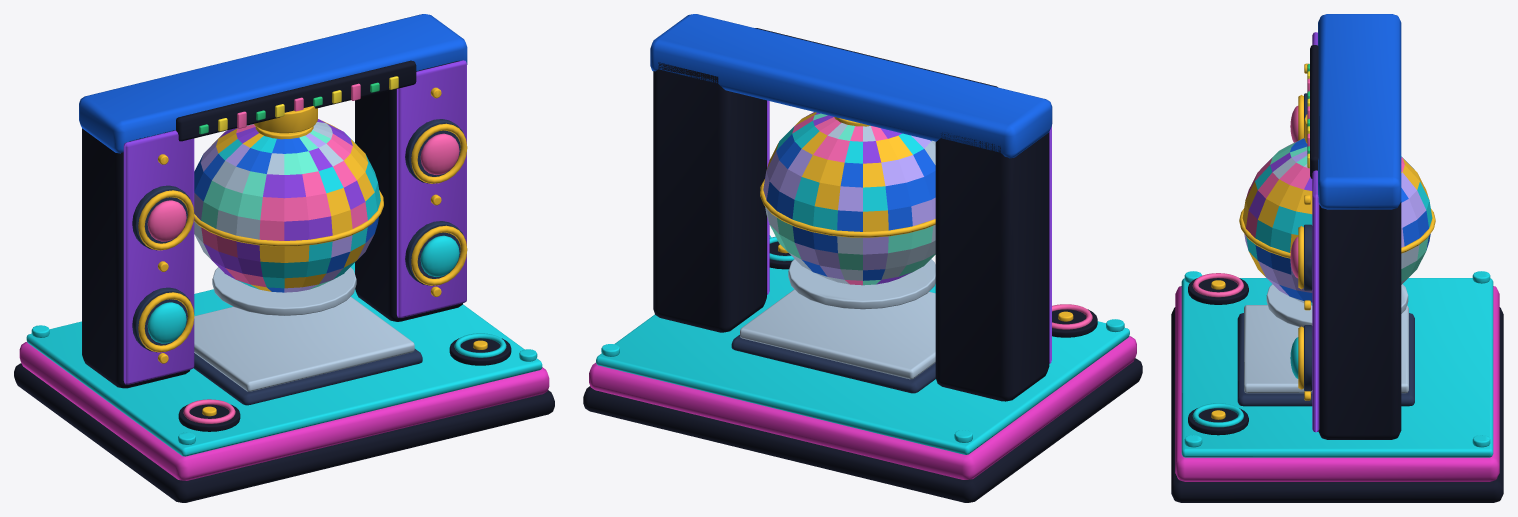
Rendered from DiscoDestroyer.fbx.
3 views of the same model, side by side, from view 1: azimuth 30°, elevation 25°; view 2: azimuth 150°, elevation 25°; view 3: azimuth 270°, elevation 25° (orthographic). The views are drawn at different scales.
Parts seen in each view (by area): view 1: Frame, Ram, Deck_R, Deck_L; view 2: Frame, Ram, Deck_L; view 3: Frame, Ram, Deck_L, Deck_R.
Part boxes in pixels (box(x1,y1,x2,y2)): Frame: box(14, 14, 554, 502); Ram: box(194, 119, 383, 315); Deck_R: box(449, 333, 511, 365); Deck_L: box(178, 399, 240, 431); Frame: box(583, 14, 1142, 502); Ram: box(760, 112, 935, 309); Deck_L: box(1052, 304, 1097, 337); Frame: box(1171, 14, 1503, 502); Ram: box(1239, 138, 1435, 327); Deck_L: box(1188, 273, 1248, 304); Deck_R: box(1188, 403, 1248, 435).
Size of the model in its own units: 7.8 by 6.38 by 6.
Materials: 1 (1 with a texture image).
